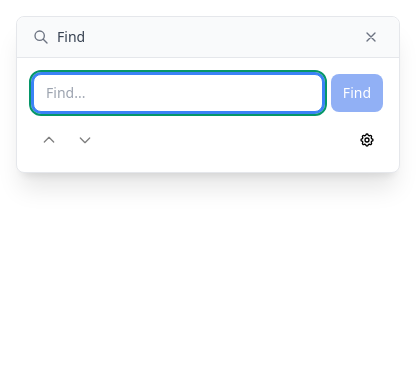
Test: FindReplaceDialog Options State › should reflect matchCase option state
The width and height of the screenshot is (416, 386).
Click the 5th button at point(367, 140), box [351,124,383,156]
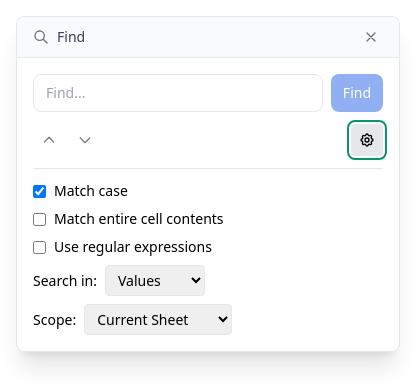
Expected: the checkbox labelled "Match case" is checked, [33,184,46,198]
